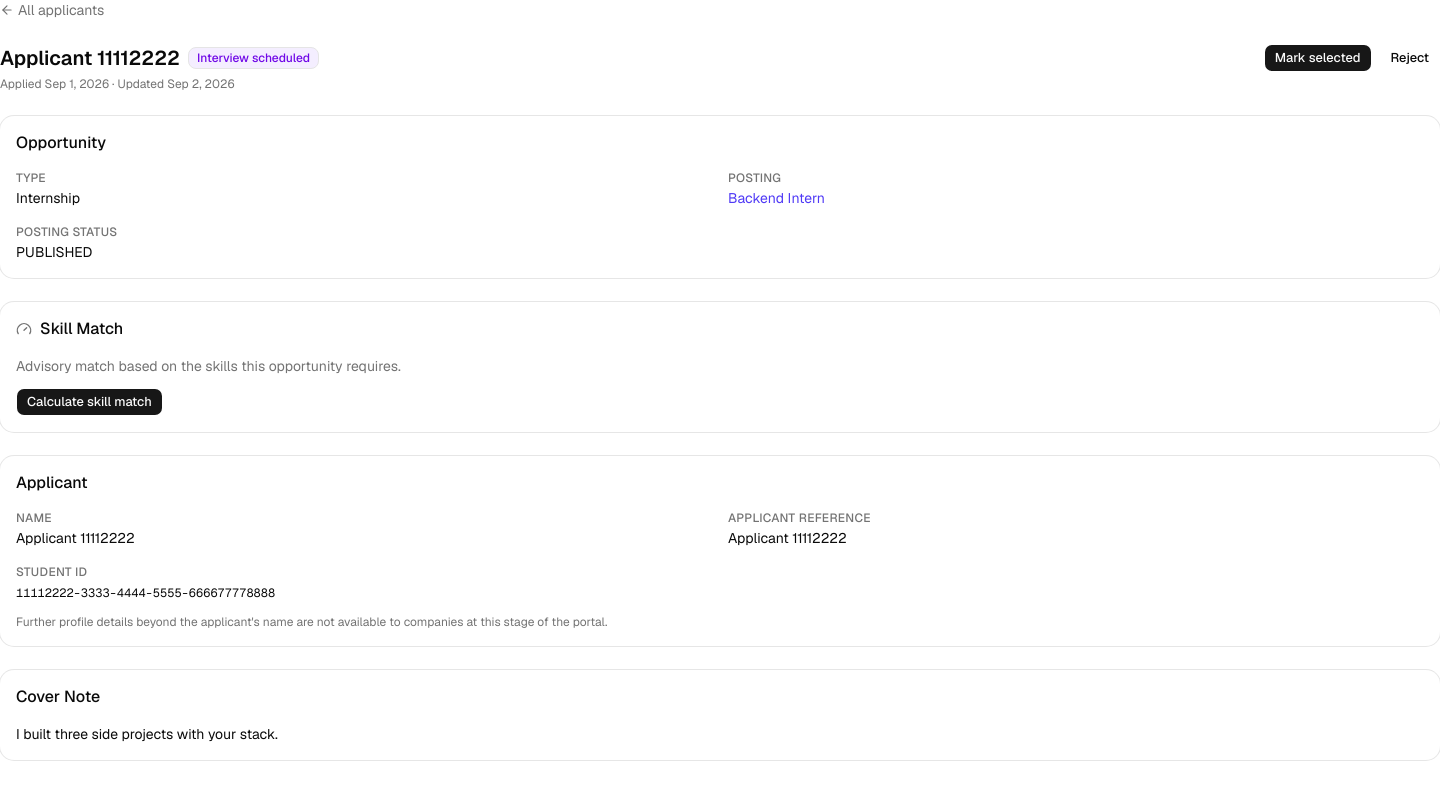
ApplicationDetailView › shows the backend provisioning message and a workspace link on SELECTED (internship)
Expected: the heading "Applicant 11112222" is shown, [0,44,180,72]
What coordinates should you click on to do the following:
click the button "Mark selected"
I would click on:
 (1318, 58)
Its box is [1264,44,1372,72].
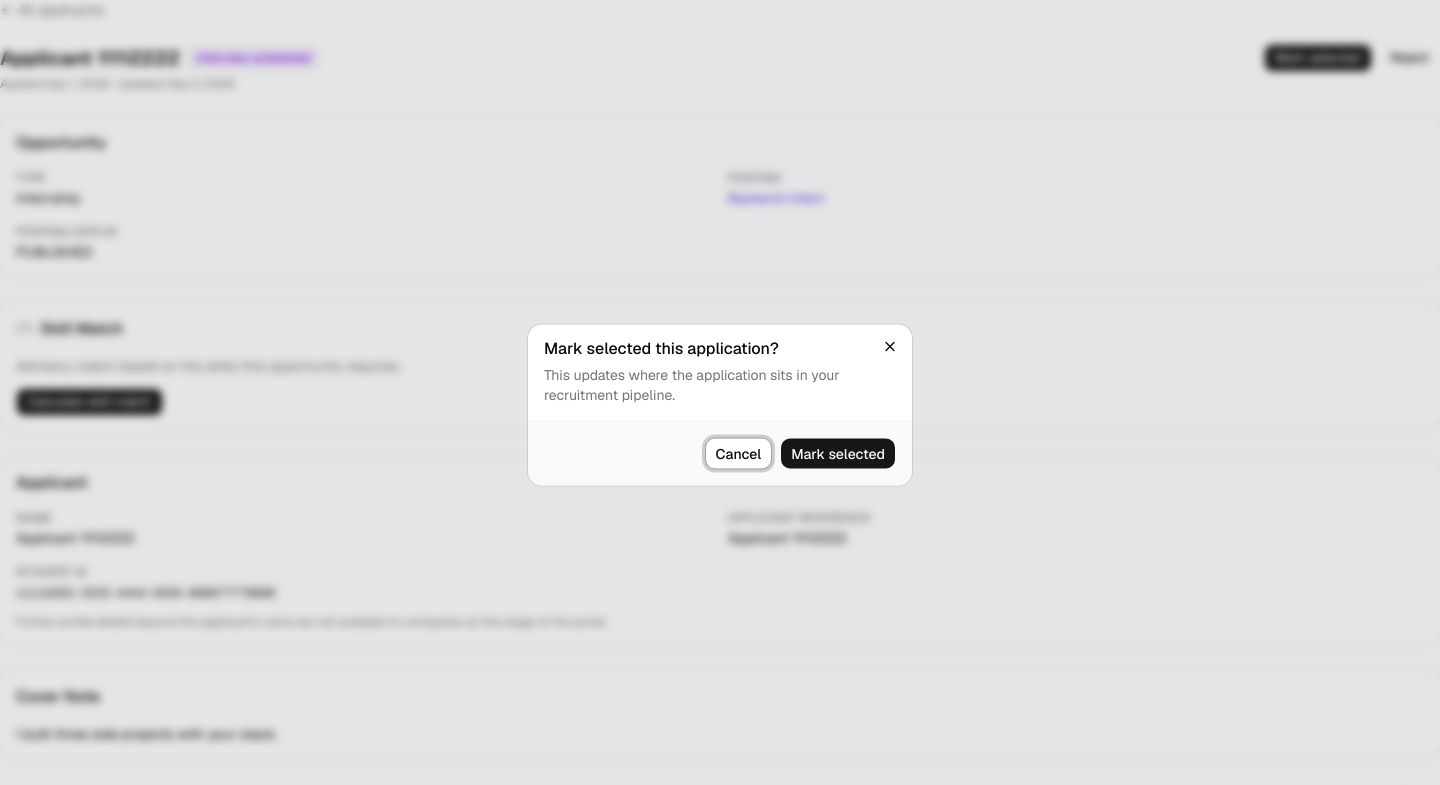
What coordinates should you click on to do the following:
click the button "Mark selected"
I would click on:
 (838, 454)
Its box is [780,438,896,470].
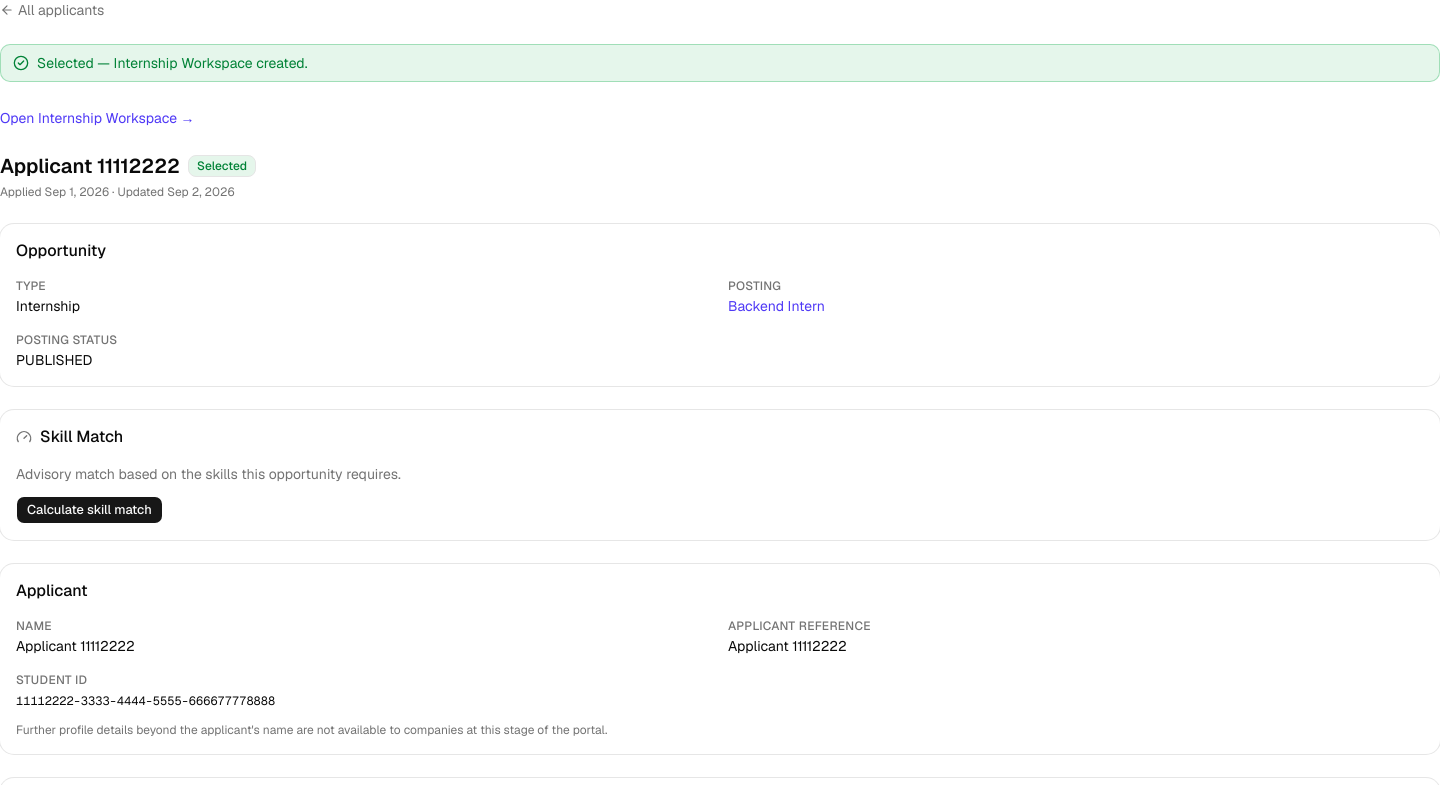
Expected: the text "Selected — Internship Workspace created." is shown, [37,53,308,73]
